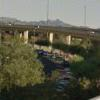Bridge: (7, 12, 96, 50)
